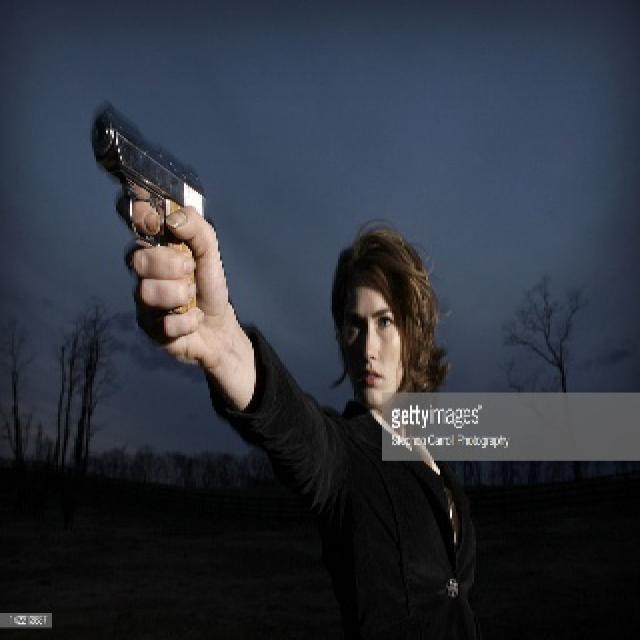weapon: (84, 98, 216, 322)
